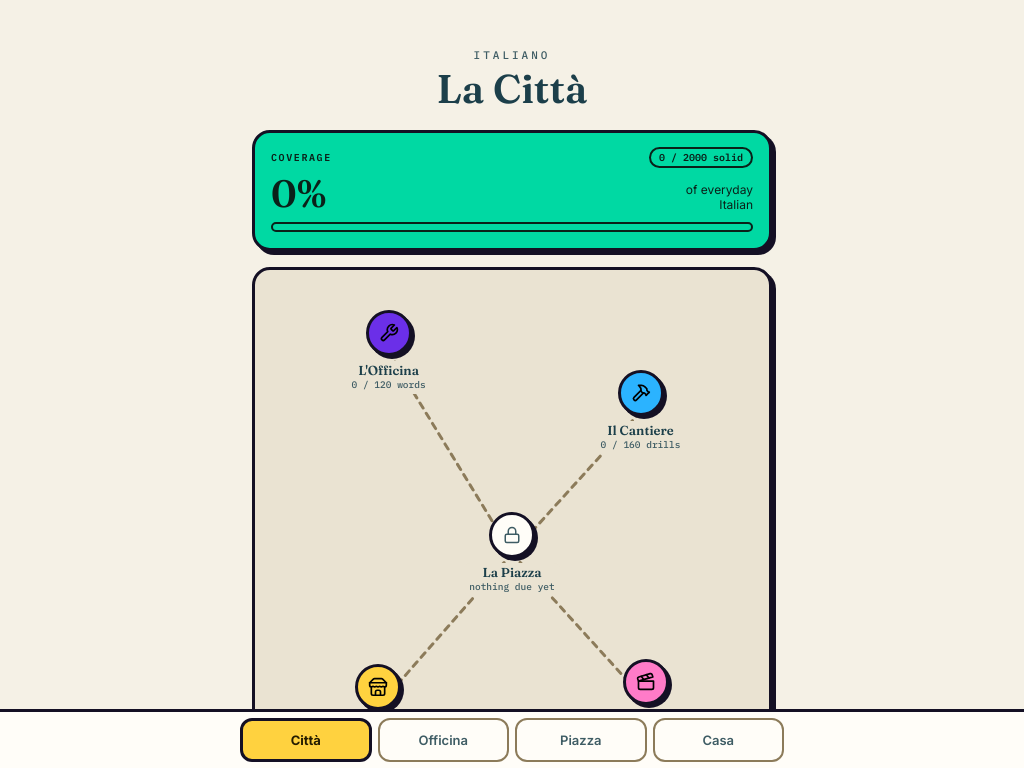
Test: Lo Stadio › names the current rung on the way in
This screenshot has width=1024, height=768.
Click the button "Casa" at (718, 740), box [652,718,784,762]
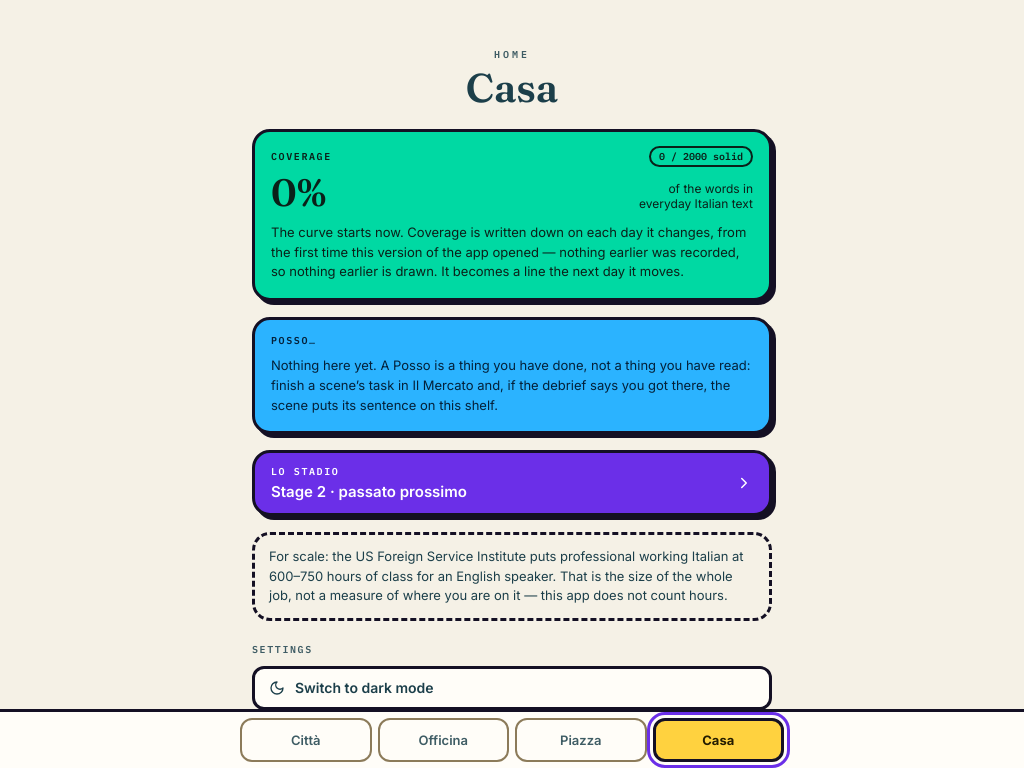
Expected: the button "Lo Stadio Stage 2 · passato prossimo" is shown, [252,450,772,516]
